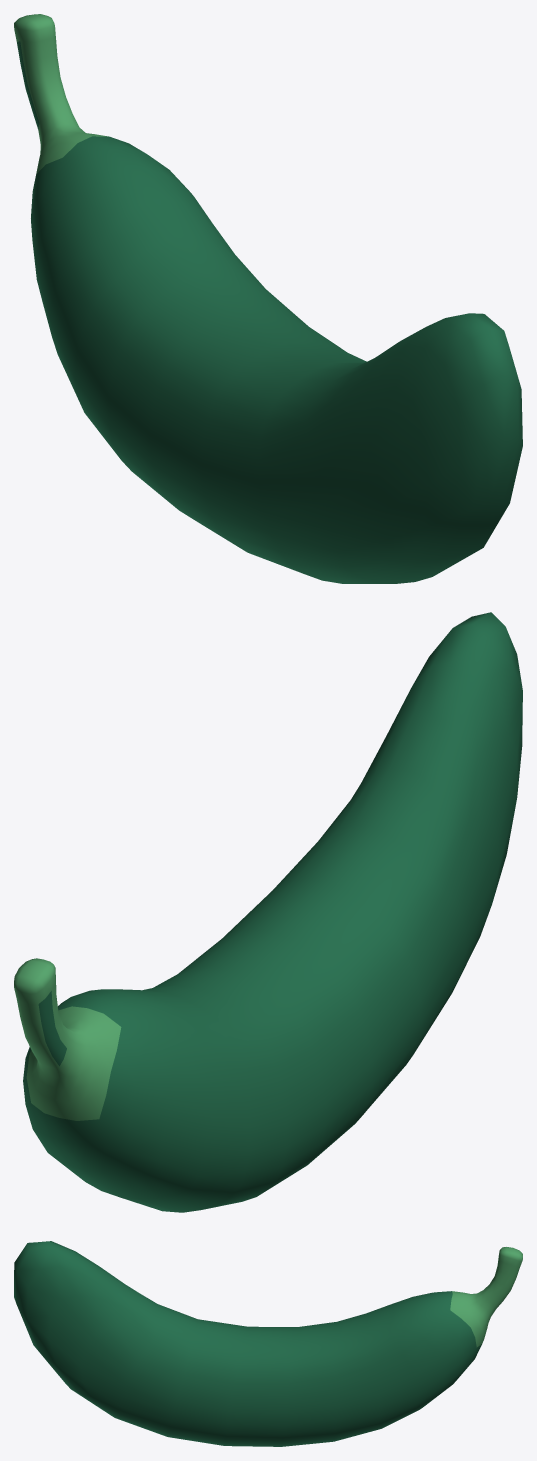
File: Chilli_04.dae
3 renders of one model, top to bottom at view 1: azimuth 30°, elevation 25°; view 2: azimuth 150°, elevation 25°; view 3: azimuth 270°, elevation 25°, orthographic. The views are drawn at different scales.
Visible parts, largest first — view 1: Chilli_04_LOD0; view 2: Chilli_04_LOD0; view 3: Chilli_04_LOD0.
Part boxes in pixels (box(x1,y1,x2,y2)): Chilli_04_LOD0: box(14, 14, 522, 583); Chilli_04_LOD0: box(14, 612, 522, 1212); Chilli_04_LOD0: box(14, 1241, 522, 1446).
Size of what is drawn, in the model's own units: 1.3 by 5.86 by 2.55.
